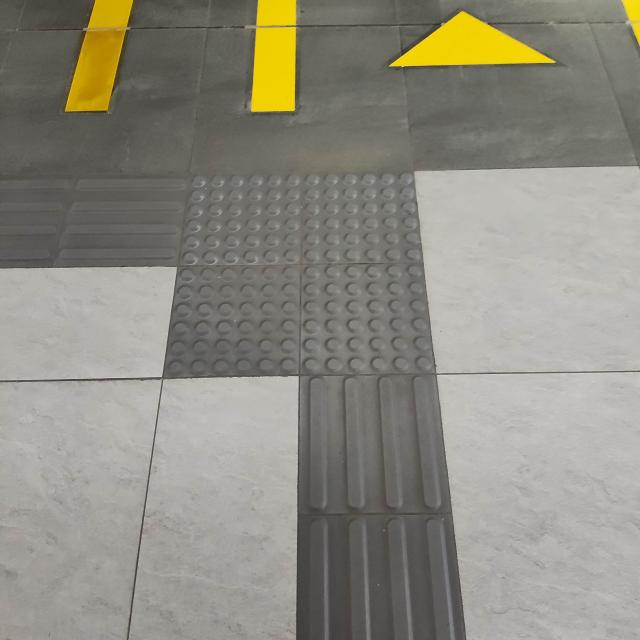kiri: (2, 122, 580, 540)
